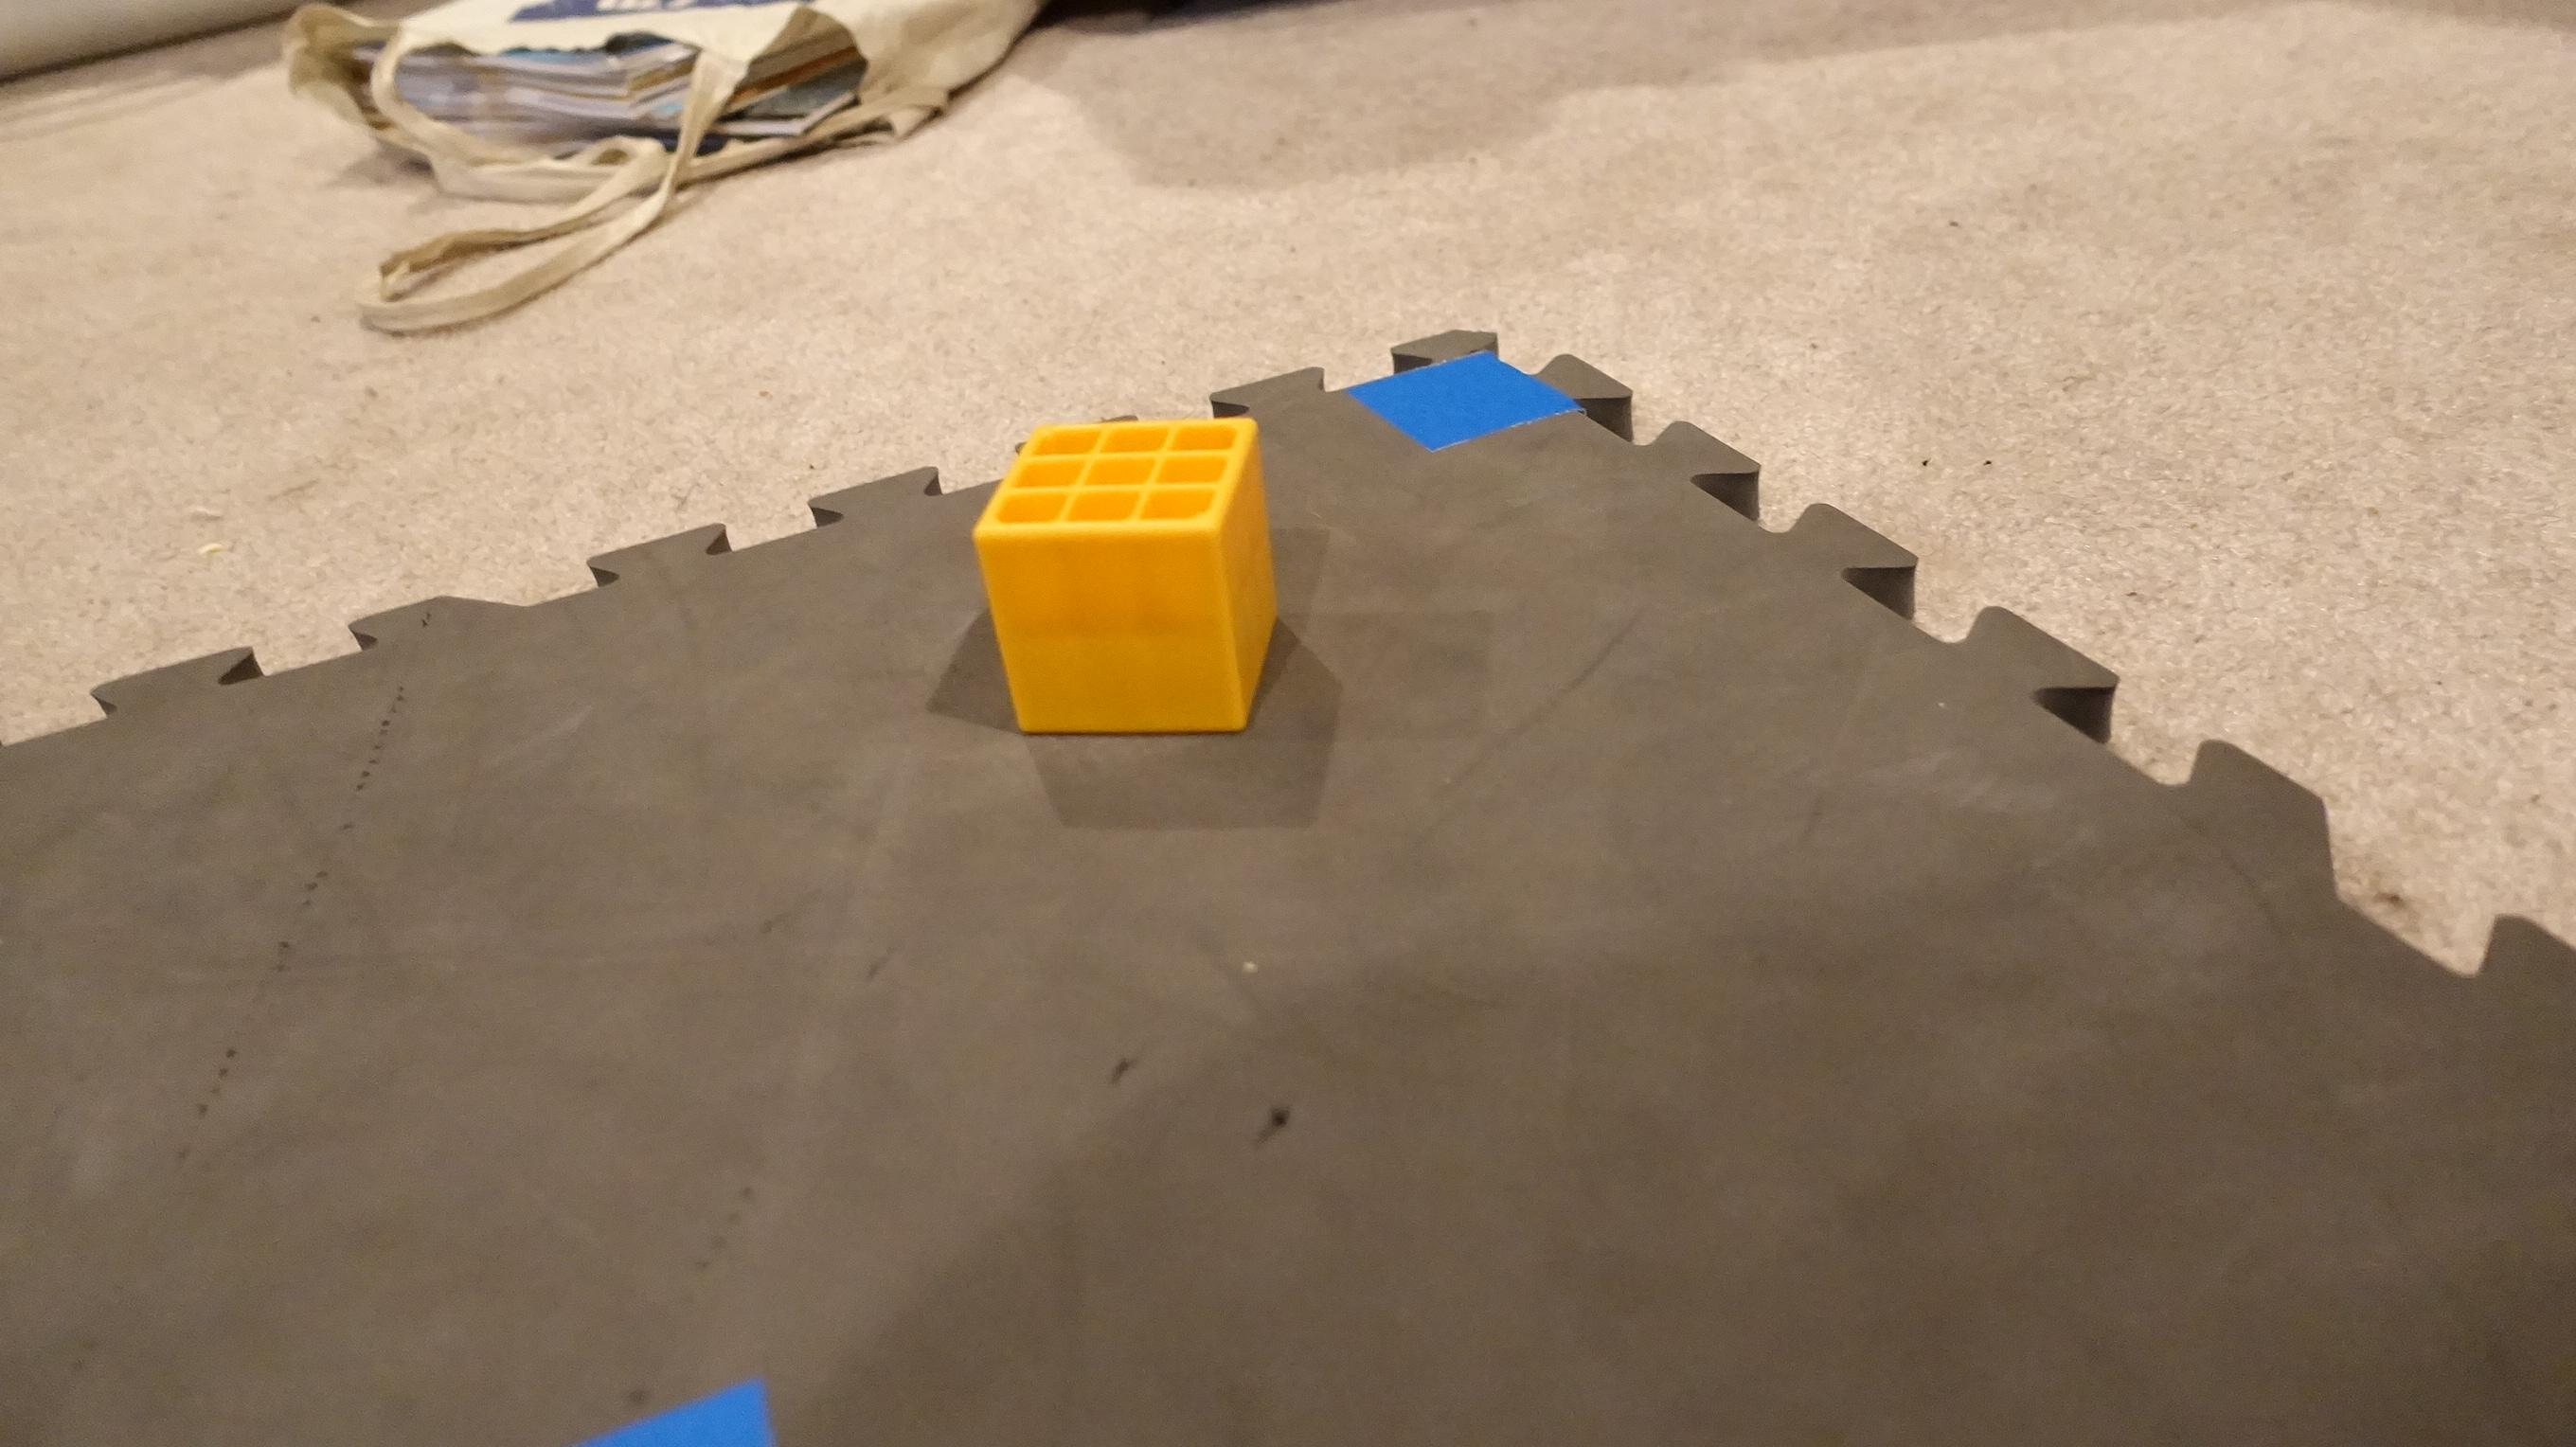gold: (968, 409, 1290, 739)
